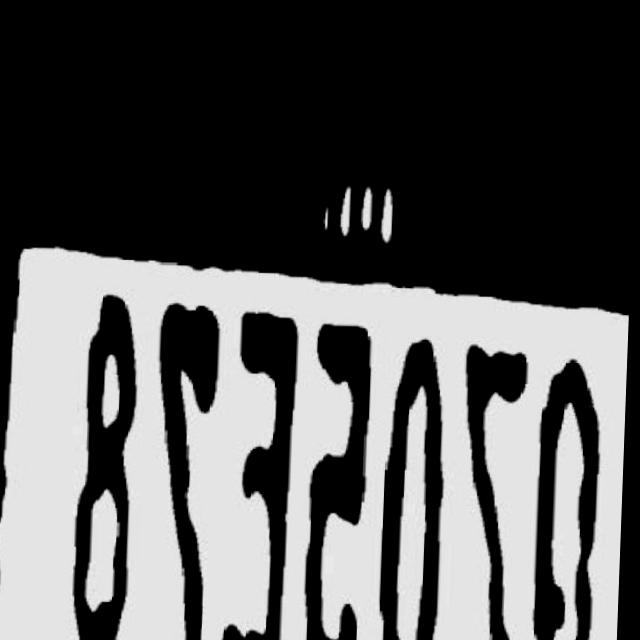5: (295, 311, 383, 640)
7: (145, 294, 229, 640)
8: (57, 288, 145, 640)
e: (209, 297, 310, 640)
o: (369, 329, 457, 640)
q: (525, 350, 610, 640)
z: (441, 337, 535, 640)
